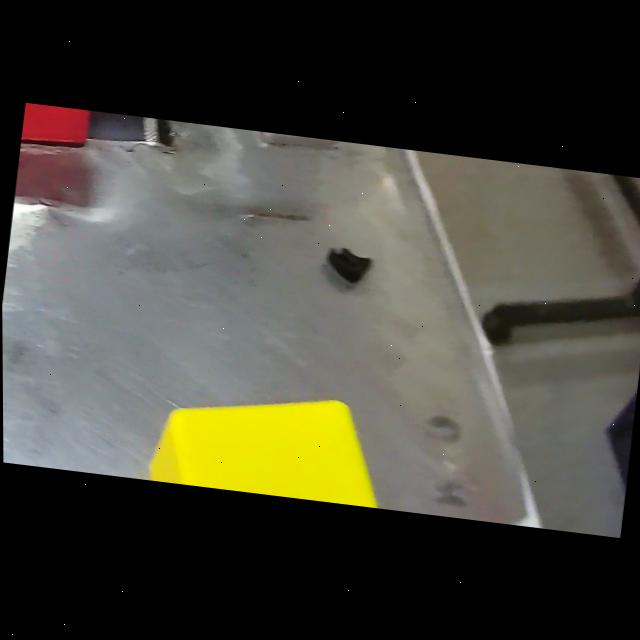redBox: (19, 102, 103, 164)
yellowBox: (134, 369, 417, 511)
